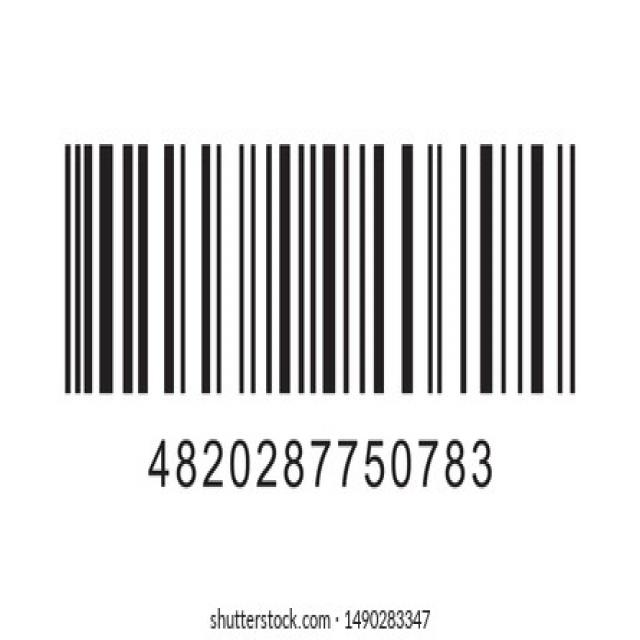Barkod: (55, 126, 590, 492)
